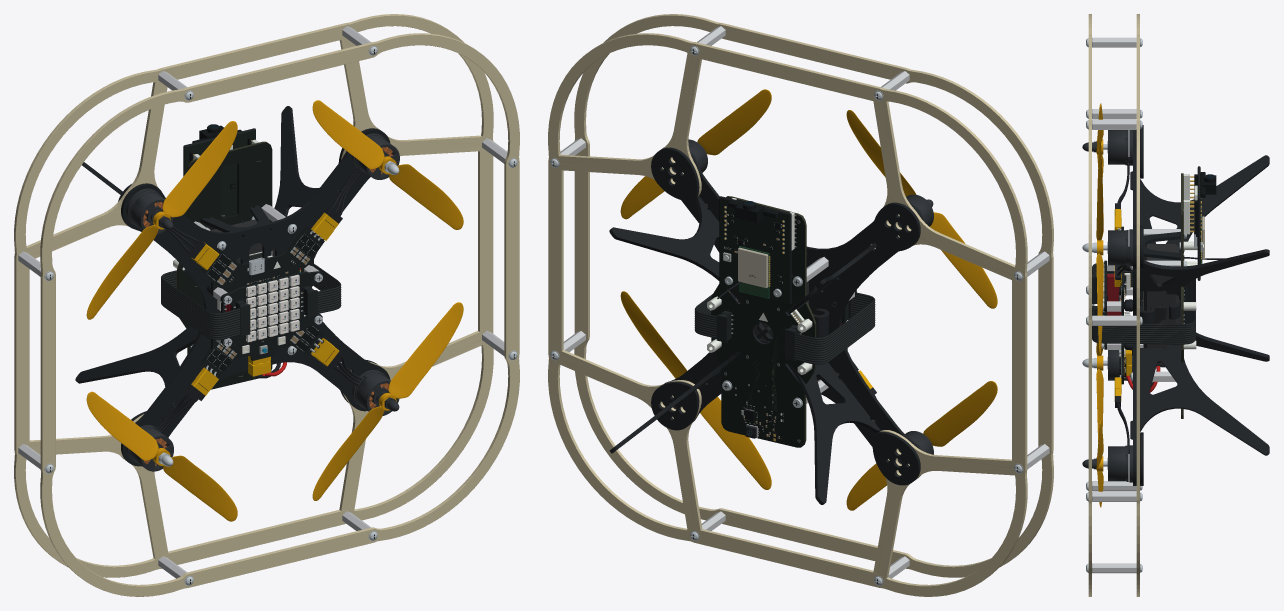
Rendered from pioneer-basic.glb.
The picture shows the model from 3 angles, left to right: view 1: azimuth 30°, elevation 25°; view 2: azimuth 150°, elevation 25°; view 3: azimuth 270°, elevation 25°; orthographic projection. The views are drawn at different scales.
Parts seen in each view (by area): view 1: frame_mesh, led_module_mesh, rotor_2_mesh, rotor_3_mesh, rotor_0_mesh, rotor_1_mesh, esp32_module_mesh; view 2: frame_mesh, esp32_module_mesh, rotor_3_mesh, rotor_1_mesh, rotor_0_mesh, rotor_2_mesh; view 3: frame_mesh, esp32_module_mesh, rotor_0_mesh, rotor_1_mesh, rotor_3_mesh, led_module_mesh, rotor_2_mesh.
Boxes of the visible parts, x1,y1,x2,y2 form: frame_mesh: (14,14,519,596); led_module_mesh: (220,271,322,346); rotor_2_mesh: (86,121,237,319); rotor_3_mesh: (312,302,463,500); rotor_0_mesh: (312,100,463,229); rotor_1_mesh: (86,391,237,521); esp32_module_mesh: (183,124,255,229); frame_mesh: (548,14,1053,596); esp32_module_mesh: (719,196,791,304); rotor_3_mesh: (620,291,771,489); rotor_1_mesh: (846,381,997,510); rotor_0_mesh: (620,89,771,219); rotor_2_mesh: (846,110,997,308); frame_mesh: (1086,14,1269,596); esp32_module_mesh: (1179,166,1216,280); rotor_0_mesh: (1082,141,1107,354); rotor_1_mesh: (1082,343,1107,441); rotor_3_mesh: (1082,420,1107,507); led_module_mesh: (1101,260,1115,349); rotor_2_mesh: (1082,103,1107,176).
Bounding box in the file's own units: 0.5685 × 0.5685 × 0.211.
